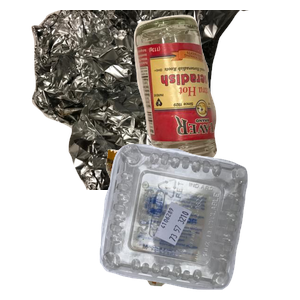glass: (131, 12, 300, 170)
metal: (29, 10, 269, 190)
plastic: (97, 141, 300, 300)
trash: (103, 147, 300, 300)
